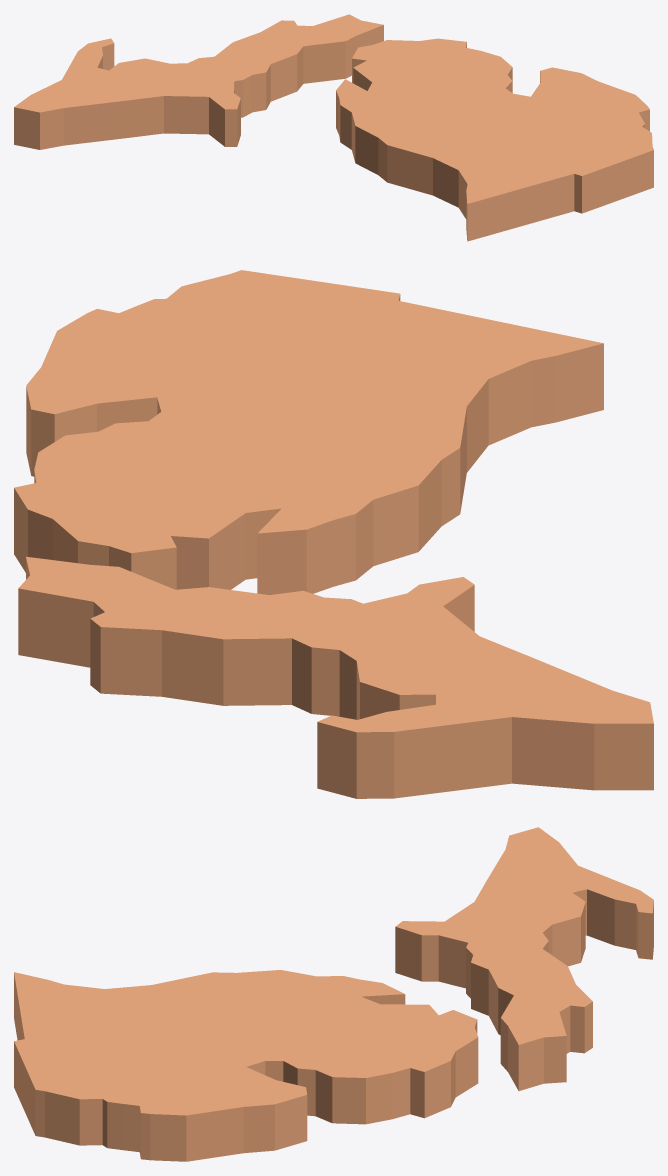
File: Michigan.fbx
The picture shows the model from 3 angles, top to bottom: view 1: azimuth 30°, elevation 25°; view 2: azimuth 150°, elevation 25°; view 3: azimuth 270°, elevation 25°; orthographic projection. The views are drawn at different scales.
Visible parts, largest first — view 1: Michigan1; view 2: Michigan1; view 3: Michigan1.
Part boxes in pixels (x1,y1,x2,y2): Michigan1: (14, 14, 653, 241); Michigan1: (14, 270, 653, 798); Michigan1: (14, 827, 653, 1161).
Bounding box in the file's own units: 134 × 10 × 125.
